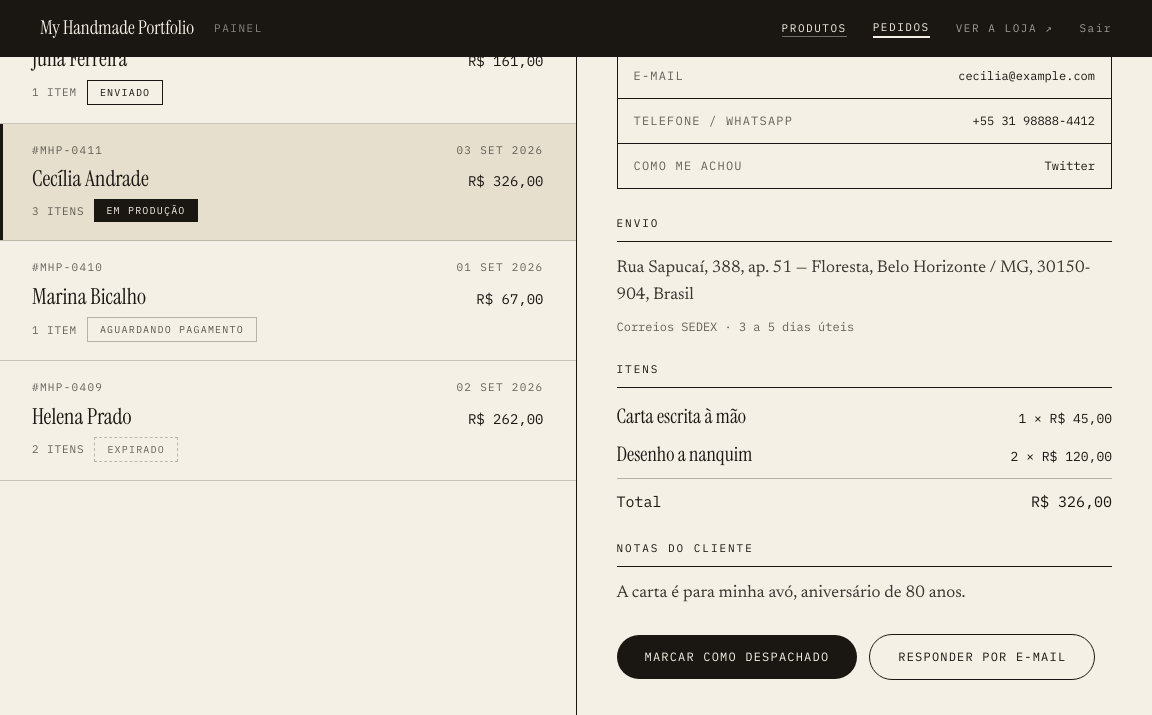
Test: OrdersRoute › sends a typed tracking code and closes the form when it lands
(page scrolled)
Click the button "Marcar como despachado" at (737, 657), box [616,635,857,679]
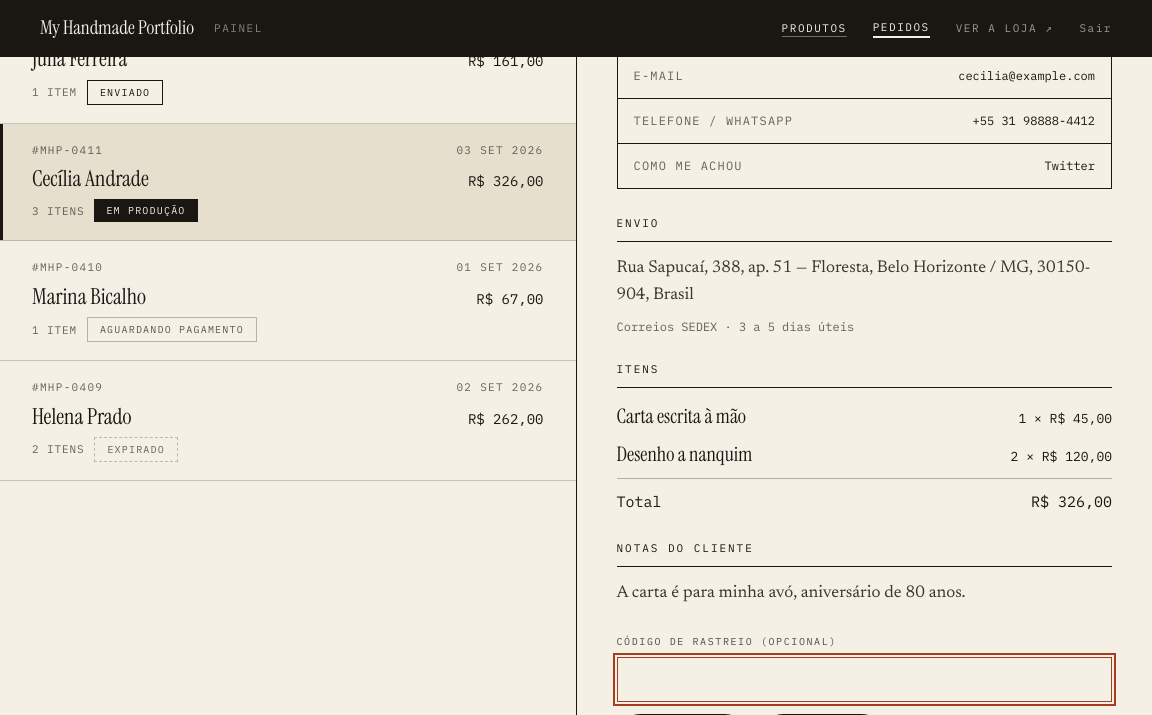
Type "  BR9911777SC  " into the field labelled "Código de rastreio (opcional)" at (864, 679), box [616,657,1112,702]
(page scrolled)
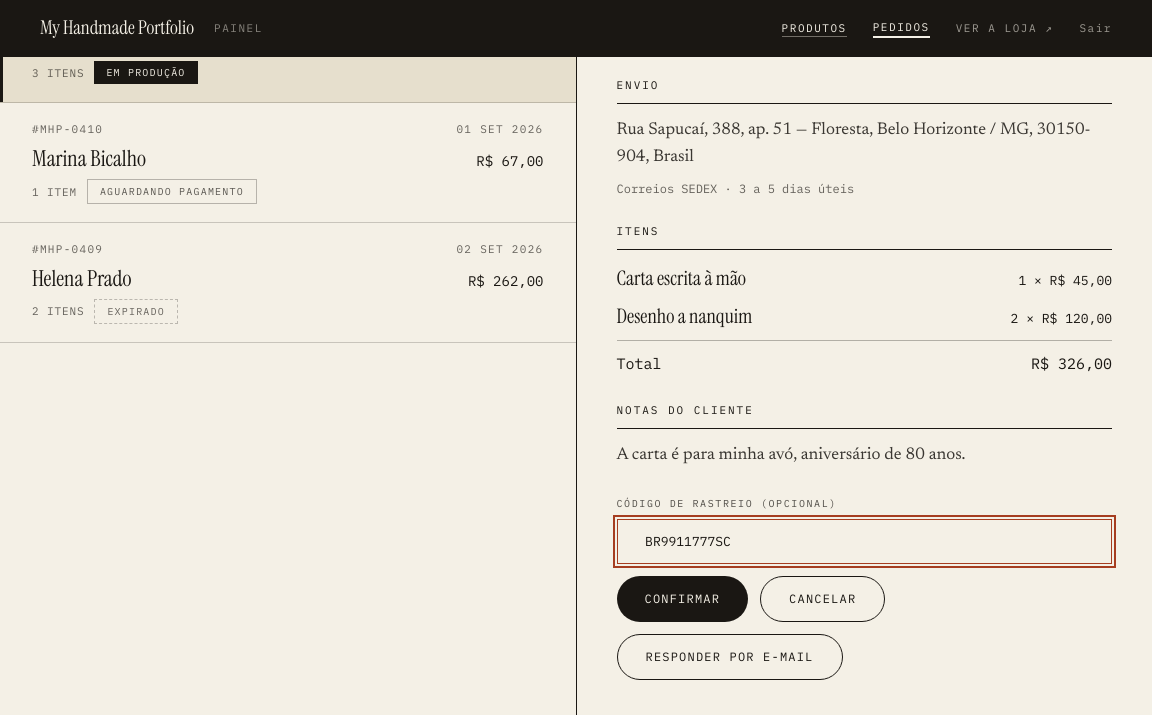
Click the button "Confirmar" at (682, 599), box [616,576,748,622]
(page scrolled)
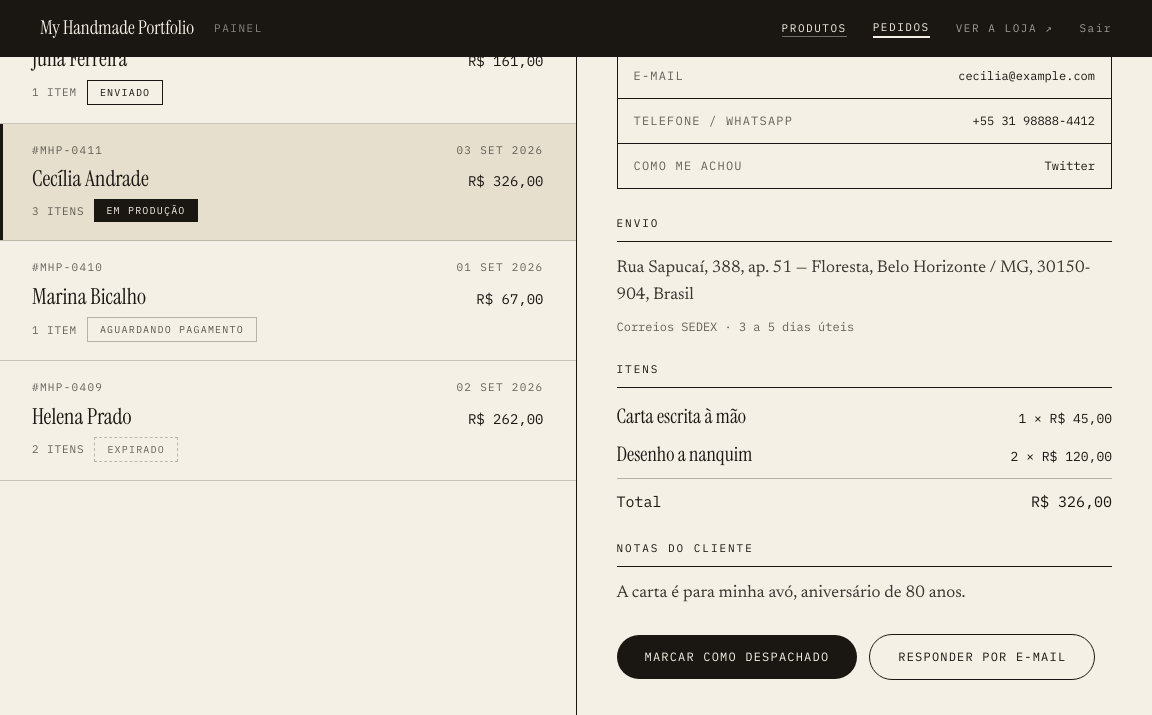
expect the text labelled "Código de rastreio (opcional)" is gone: met
